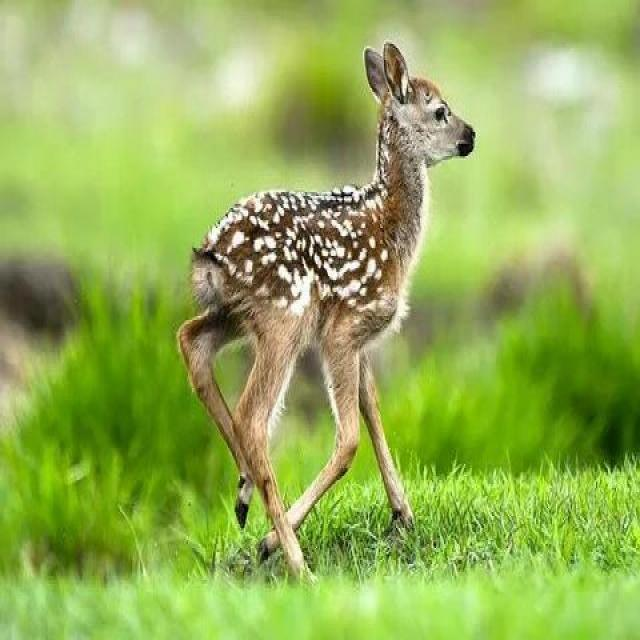deer: (145, 22, 503, 573)
